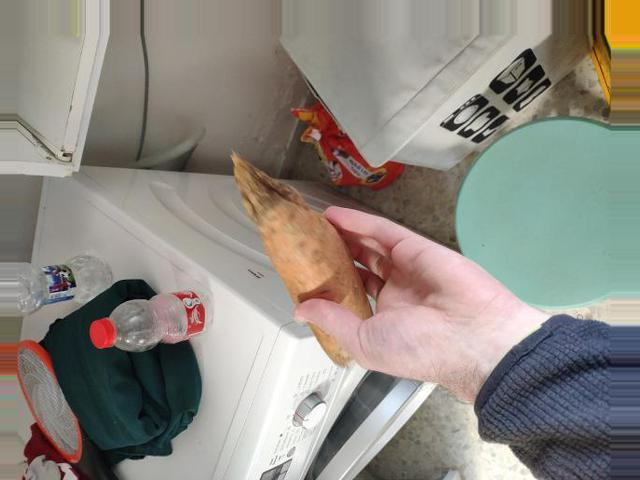sweet_potato: (264, 213, 378, 343)
